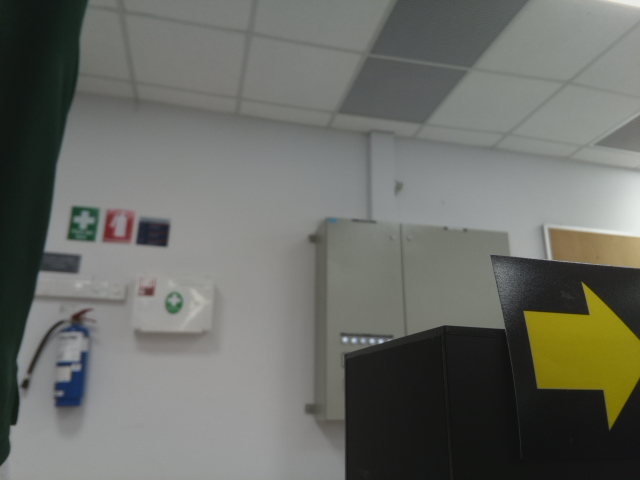right: (512, 267, 640, 432)
